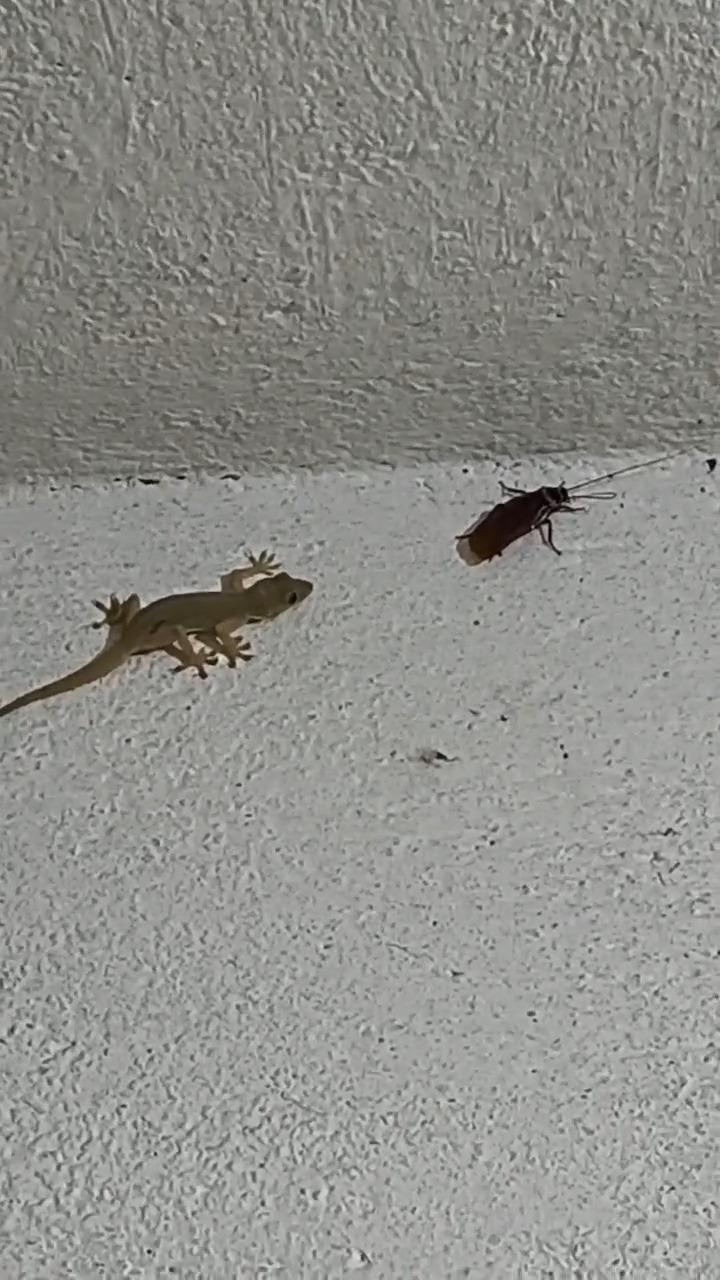cockroach: (435, 468, 615, 572)
lizard: (0, 538, 341, 732)
